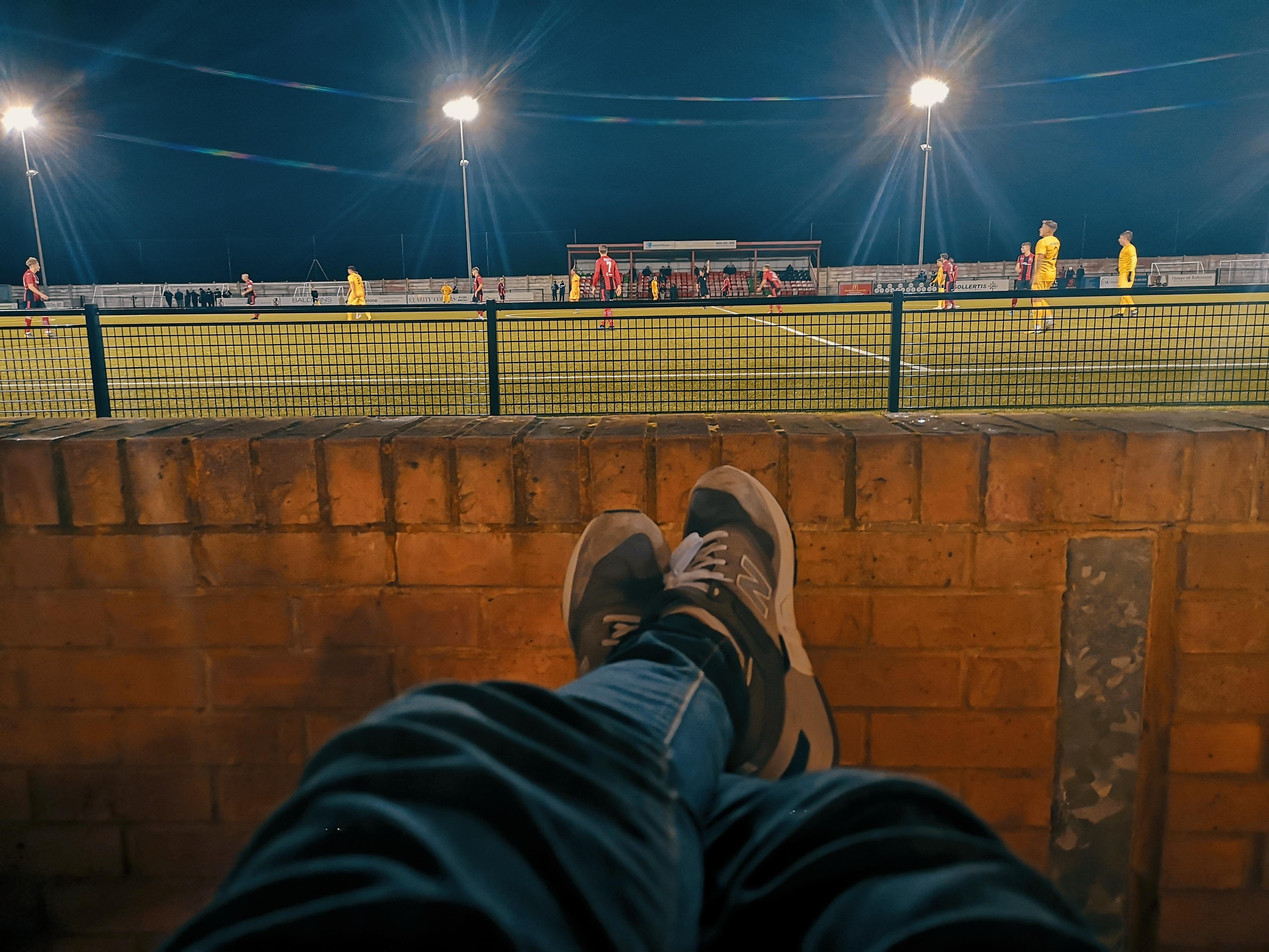sneaker: (668, 467, 842, 785), (565, 509, 668, 674)
